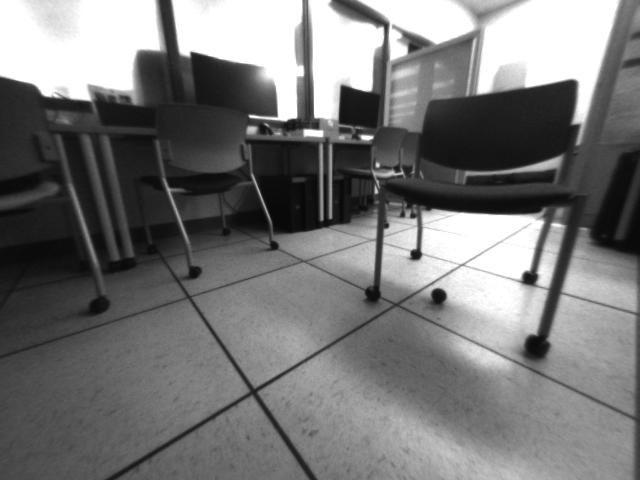dogtoy: (426, 283, 454, 310)
